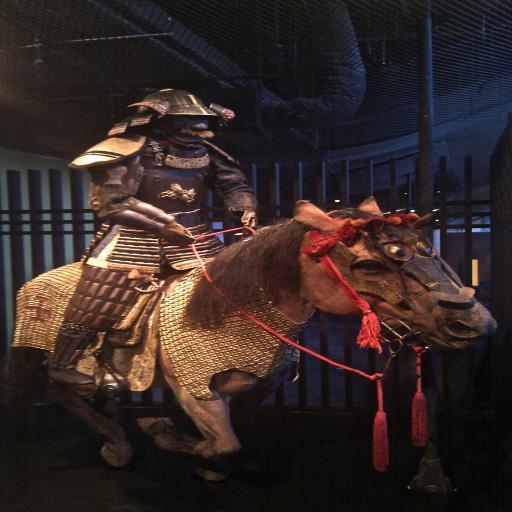horse: (12, 195, 502, 483)
